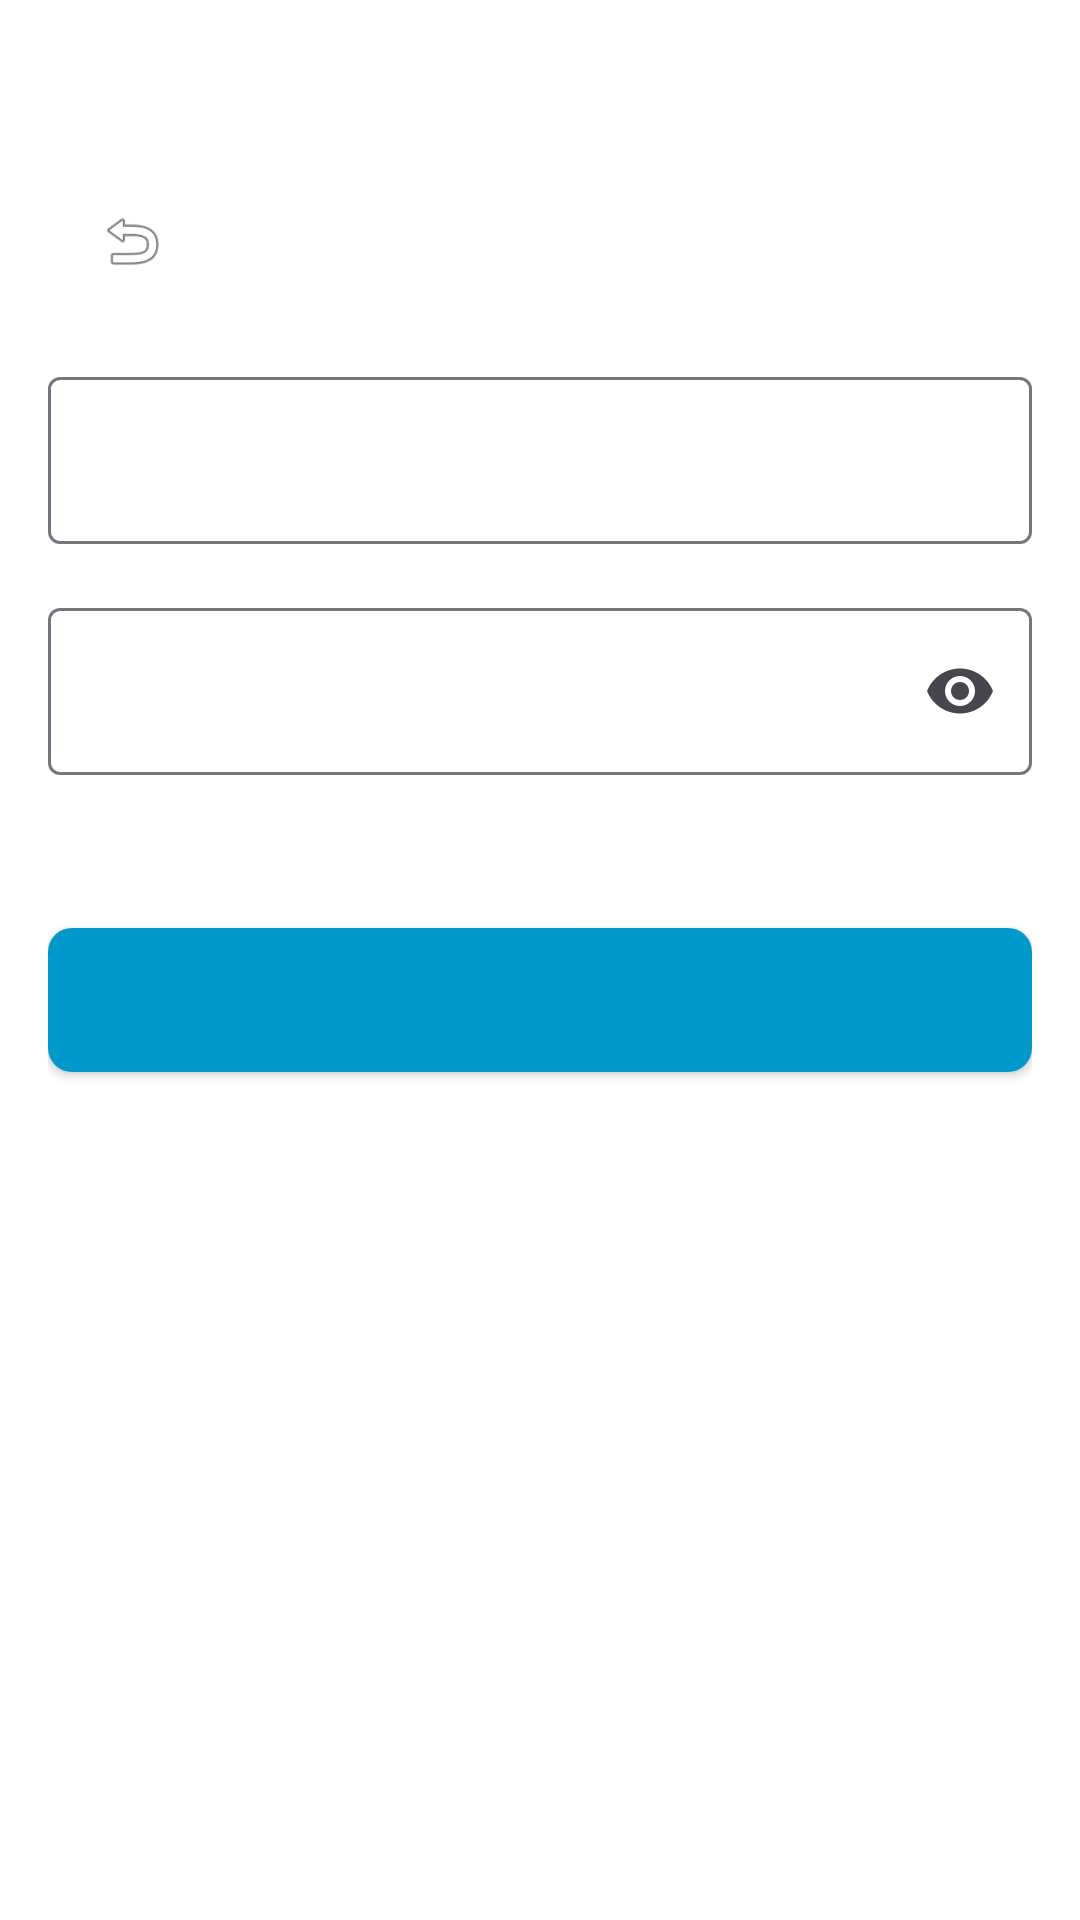

Locate icon controls on the screen. Image size 1080×1920, boxes as (x1, y1, x2, y2).
Back: (107, 218, 159, 265)
